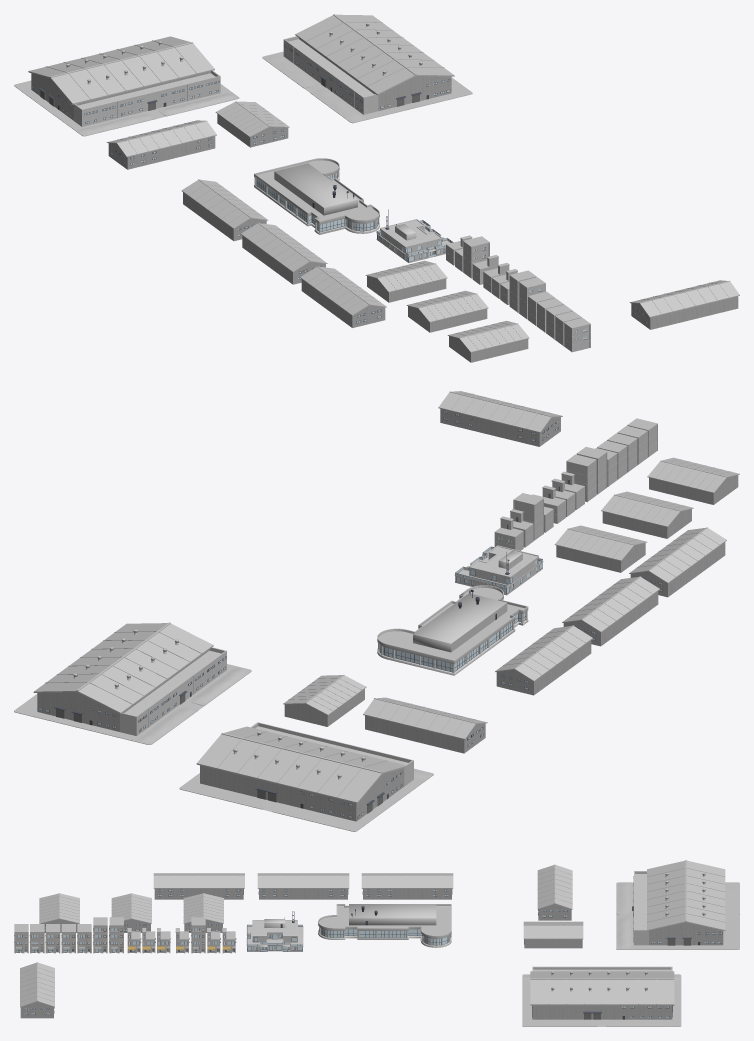
Rendered from MVDC_Building.fbx.
The picture shows the model from 3 angles, top to bottom: view 1: azimuth 30°, elevation 25°; view 2: azimuth 150°, elevation 25°; view 3: azimuth 270°, elevation 25°; orthographic projection. The views are drawn at different scales.
Parts seen in each view (by area): view 1: Factory_01_Roof_002, Factory_01_Roof_001, Building02_Body_001, Factory_01_Wall2_002, Factory_01_Wall2_001, Factory_03_Roof_005, Factory_03_Roof_004, Factory_03_Roof_001, Factory_03_Roof_002, Factory_03_Roof_003, Building03_Body_001, Factory_01_Wall_001 (+21 smaller); view 2: Factory_01_Roof_002, Factory_01_Roof_001, Building02_Body_001, Factory_01_Wall_002, Factory_01_Wall2_001, Factory_01_Bottom_002, Factory_03_Roof_004, Factory_03_Roof_005, Factory_03_Roof_002, Factory_03_Roof_001, Factory_03_Roof_003, Building03_Body_001 (+18 smaller); view 3: Factory_01_Roof_001, Factory_01_Roof_002, Building02_Body_001, Factory_01_Bottom_001, Factory_01_Wall_001, Factory_01_Bottom_002, Building03_Body_001, Factory_03_Roof_001, Factory_03_Roof_002, Factory_03_Roof_003, Factory_03_Roof_004, Factory_03_Roof_005 (+19 smaller).
Boxes of the visible parts, x1,y1,x2,y2 form: Factory_01_Roof_002: (28,36,214,104); Factory_01_Roof_001: (295,14,454,95); Building02_Body_001: (254,158,379,234); Factory_01_Wall2_002: (73,70,220,126); Factory_01_Wall2_001: (283,36,378,114); Factory_03_Roof_005: (629,280,739,317); Factory_03_Roof_004: (106,120,216,157); Factory_03_Roof_001: (181,179,268,228); Factory_03_Roof_002: (241,222,327,272); Factory_03_Roof_003: (300,266,386,315); Building03_Body_001: (376,219,450,262); Factory_01_Wall_001: (299,38,451,110); Factory_01_Roof_002: (196,726,407,803); Factory_01_Roof_001: (33,622,213,713); Building02_Body_001: (377,585,528,675); Factory_01_Wall_002: (200,765,404,821); Factory_01_Wall2_001: (120,647,226,735); Factory_01_Bottom_002: (179,768,433,831); Factory_03_Roof_004: (363,697,487,739); Factory_03_Roof_005: (438,391,562,432); Factory_03_Roof_002: (562,576,659,632); Factory_03_Roof_001: (495,625,592,681); Factory_03_Roof_003: (629,527,726,583); Building03_Body_001: (454,545,543,595); Factory_01_Roof_001: (530,971,674,1005); Factory_01_Roof_002: (647,860,725,930); Building02_Body_001: (318,904,451,947); Factory_01_Bottom_001: (522,974,681,1026); Factory_01_Wall_001: (532,1005,672,1019); Factory_01_Bottom_002: (616,882,739,949); Building03_Body_001: (246,919,303,951); Factory_03_Roof_001: (361,873,453,888); Factory_03_Roof_002: (257,873,349,888); Factory_03_Roof_003: (153,873,244,888); Factory_03_Roof_004: (537,864,572,909); Factory_03_Roof_005: (20,962,54,1007).
Size of the model in its own units: 183 by 21.41 by 388.
